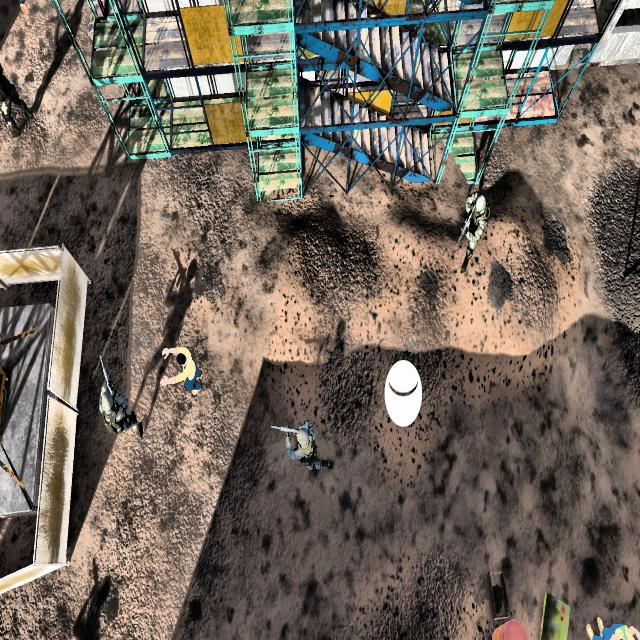bad: (90, 357, 148, 461), (265, 405, 334, 484), (447, 178, 494, 274)
good: (158, 332, 205, 416)
